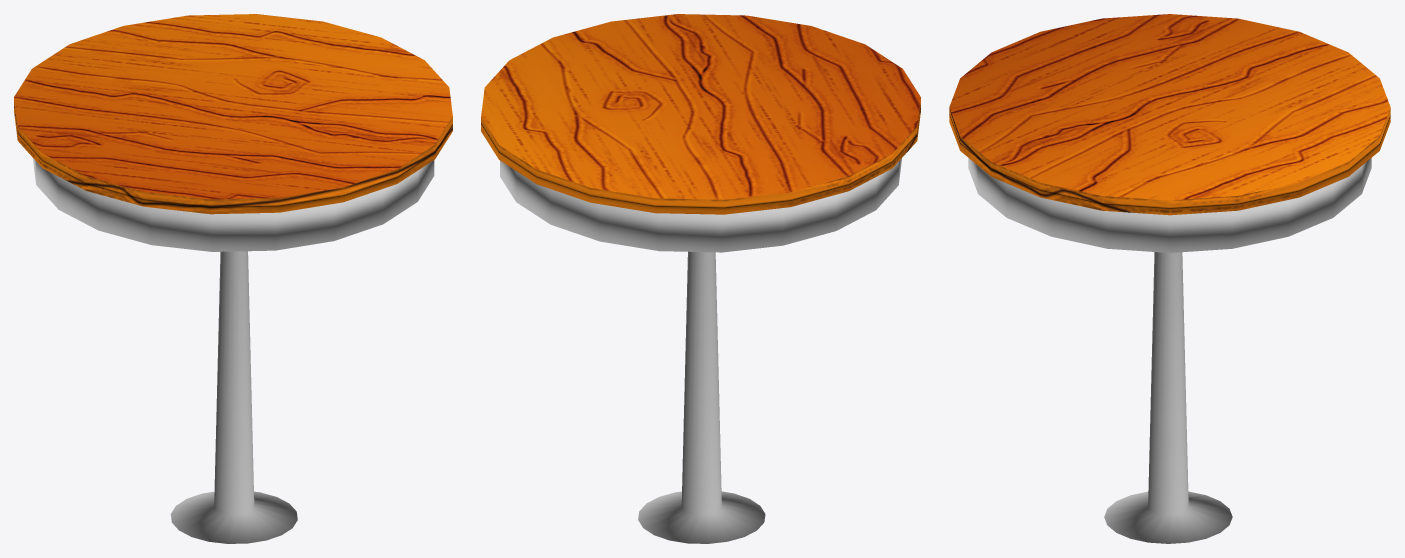
Rendered from Table_mesh.fbx.
3 views of the same model, side by side, from view 1: azimuth 30°, elevation 25°; view 2: azimuth 150°, elevation 25°; view 3: azimuth 270°, elevation 25° (orthographic).
Visible parts, largest first — view 1: top_piece, middle_piece, bottom_piece; view 2: top_piece, middle_piece, bottom_piece; view 3: top_piece, middle_piece, bottom_piece.
Part boxes in pixels (x1,y1,x2,y2): top_piece: (14,14,452,214); middle_piece: (33,158,434,251); bottom_piece: (170,251,297,543); top_piece: (481,14,920,214); middle_piece: (500,158,901,252); bottom_piece: (638,251,765,543); top_piece: (949,14,1390,215); middle_piece: (968,158,1371,252); bottom_piece: (1104,252,1232,543).
Size of the model in its own units: 112 by 115 by 112.
